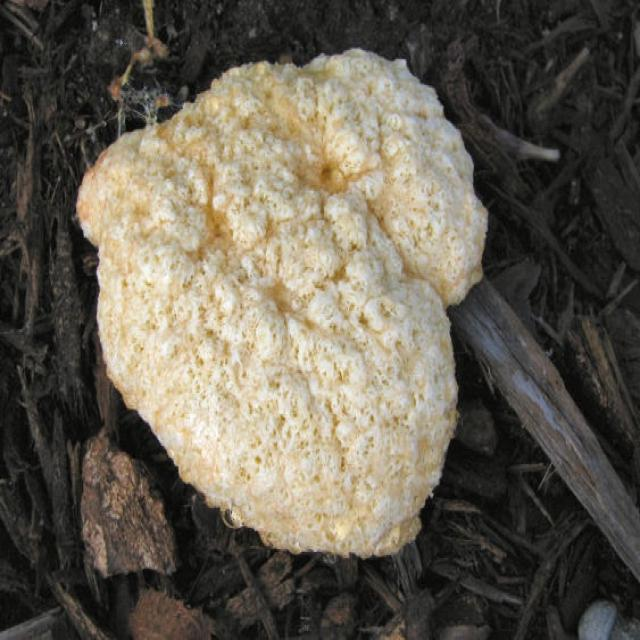Dog_vomit_slime_mold: (30, 54, 521, 590)
